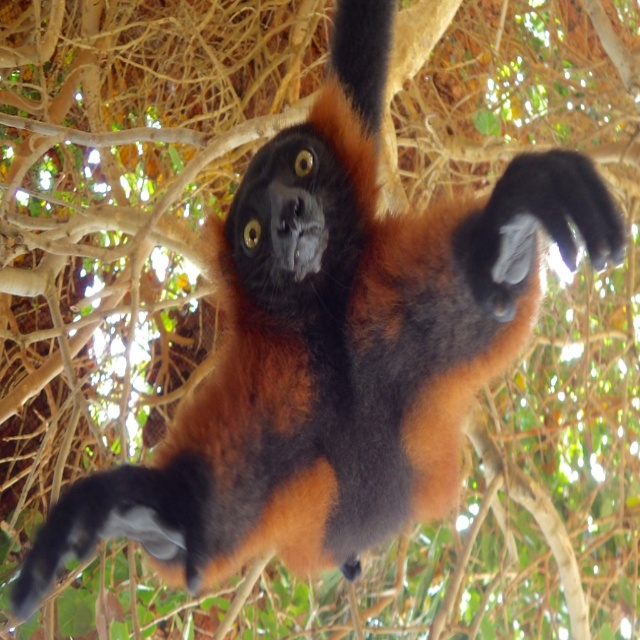Monkey: (9, 0, 627, 622)
